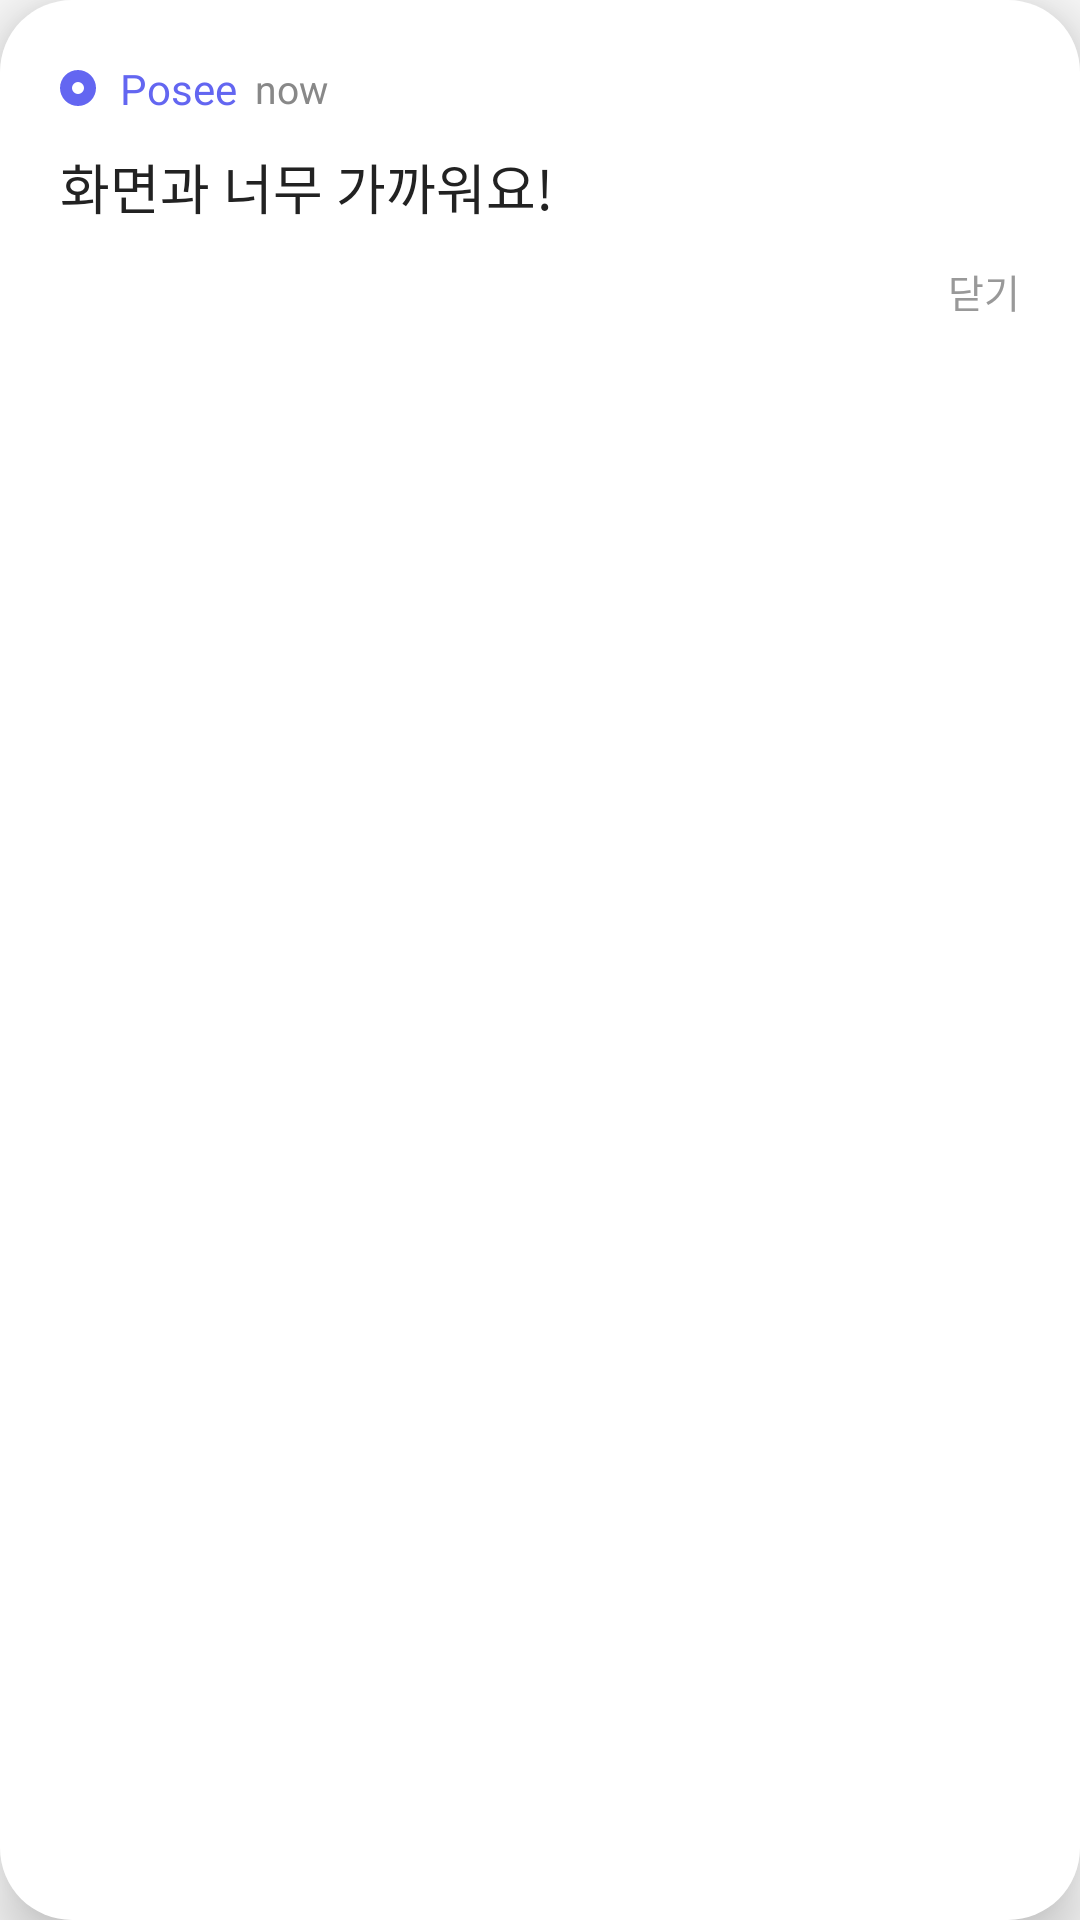

Where icons sit on this 1080*1920 app screen, as bbox(x1, y1, x2, y2):
circle dot: bbox(60, 70, 96, 106)
